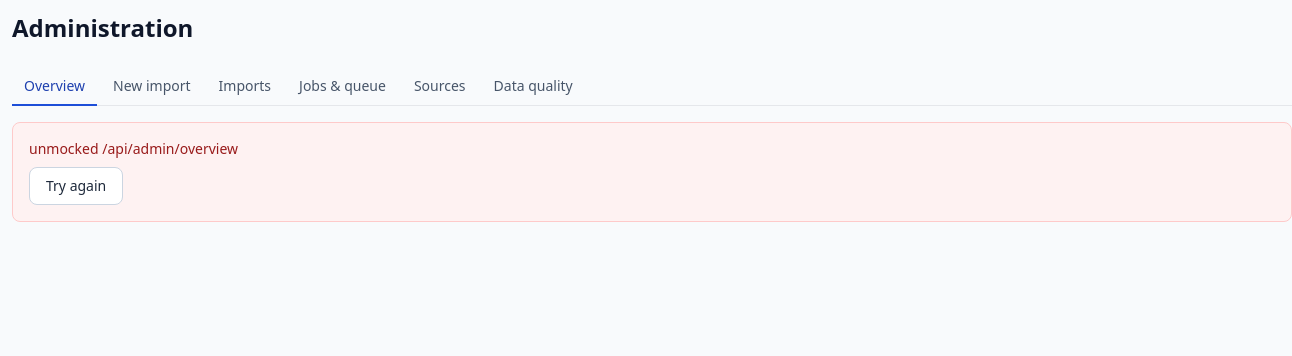
Test: admin import › lists failed jobs with a working retry
Click the tab "Jobs & queue" at coordinates (342, 87), box top-left (287, 68), bottom-right (398, 106)
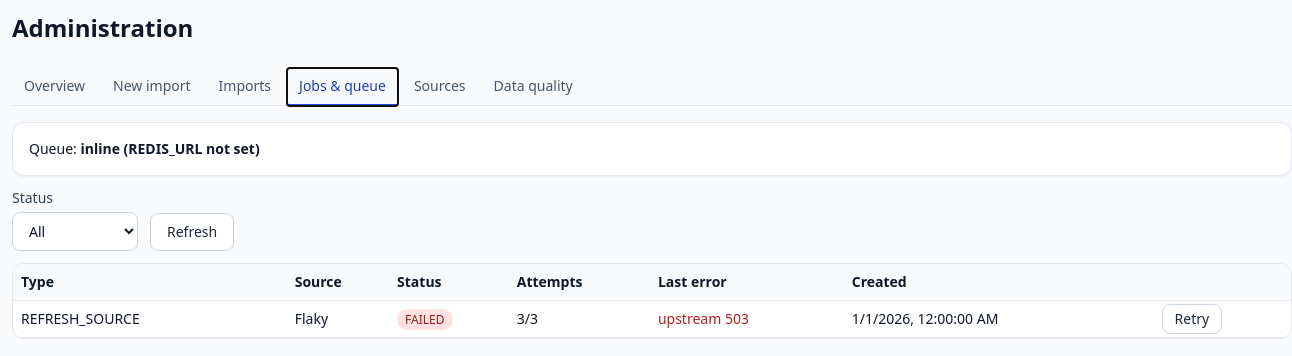
Result: the text "upstream 503" is shown at top-left (657, 301), bottom-right (851, 338)
Click the button "Retry" at coordinates (1192, 319), box top-left (1162, 304), bottom-right (1222, 334)
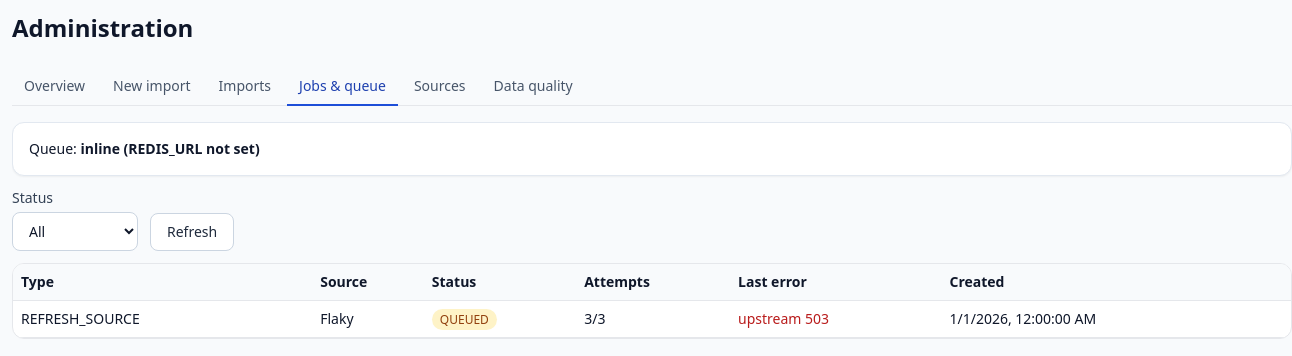
Result: the button "Retry" is gone
